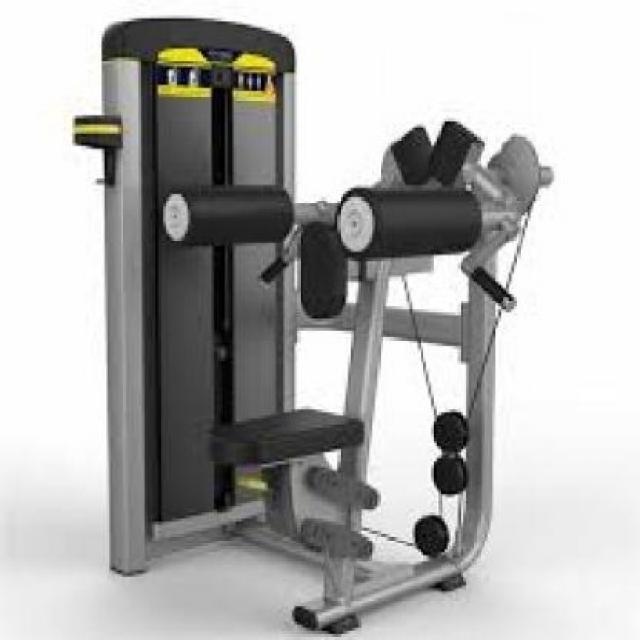lateral raises machine: (98, 17, 551, 629)
